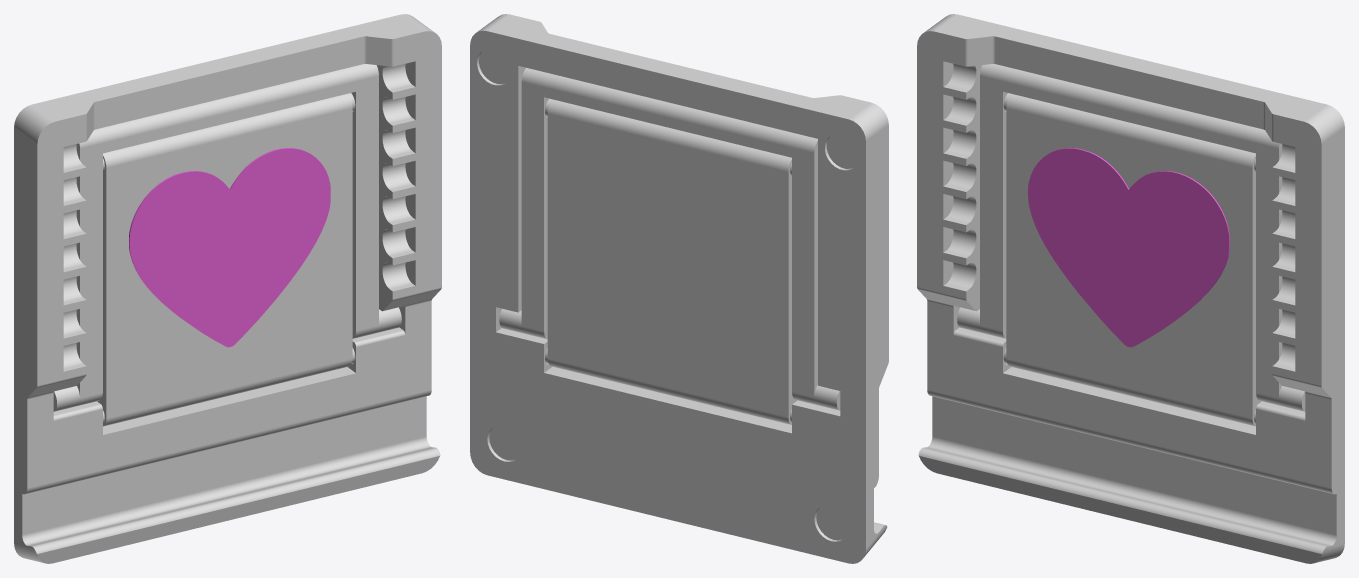
The model's file is tablet stand.glb.
3 views of the same model, side by side, from view 1: azimuth 30°, elevation 25°; view 2: azimuth 150°, elevation 25°; view 3: azimuth 330°, elevation 25° (orthographic). The views are drawn at different scales.
Visible parts, largest first — view 1: root; view 2: root; view 3: root.
Boxes of the visible parts, x1=… form: root: x1=14, y1=14, x2=441, y2=563; root: x1=470, y1=14, x2=888, y2=563; root: x1=917, y1=14, x2=1344, y2=563.
Size of the model in its own units: 1.87 by 2 by 0.1866.
